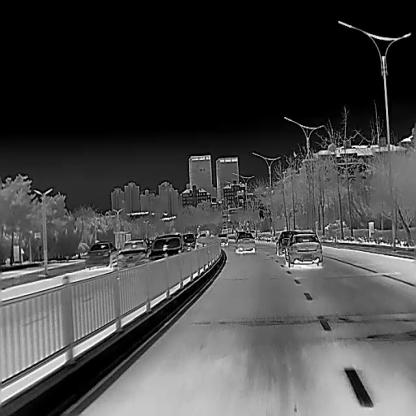car: (284, 231, 322, 267), (116, 237, 150, 270), (84, 240, 119, 269), (148, 234, 184, 262), (275, 230, 300, 255), (234, 232, 256, 252), (182, 232, 197, 249), (217, 234, 228, 245)
